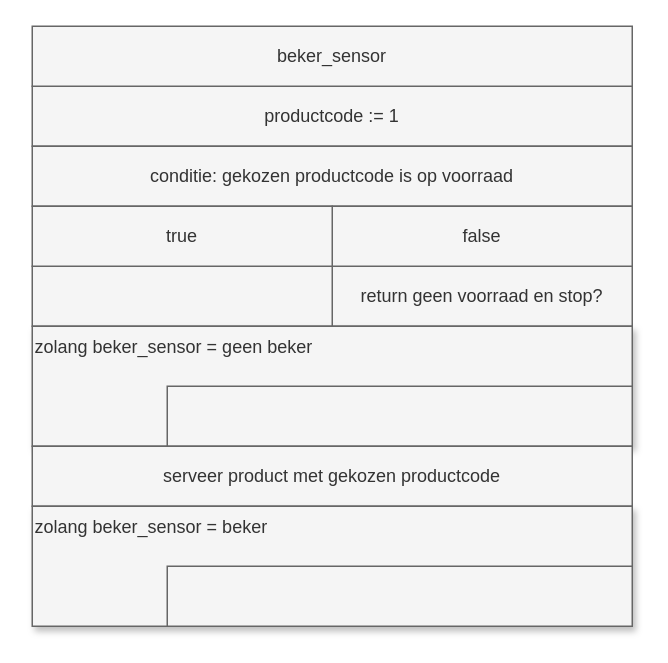
This 668x663 diagram has some shape labels left out. Here are the shapes that lost their labels. From the top down, the centre of each, then its label:
(x=399, y=415): actie: return "beker plaatsen a.u.b."
(x=399, y=595): actie: return "beker uitnemen a.u.b."
